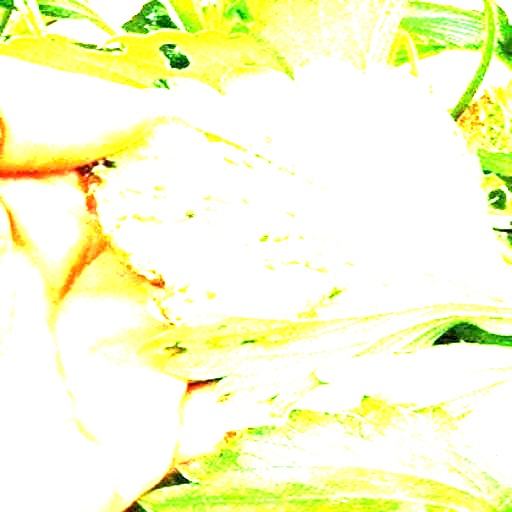Angular Leafspot: (83, 118, 370, 370)
